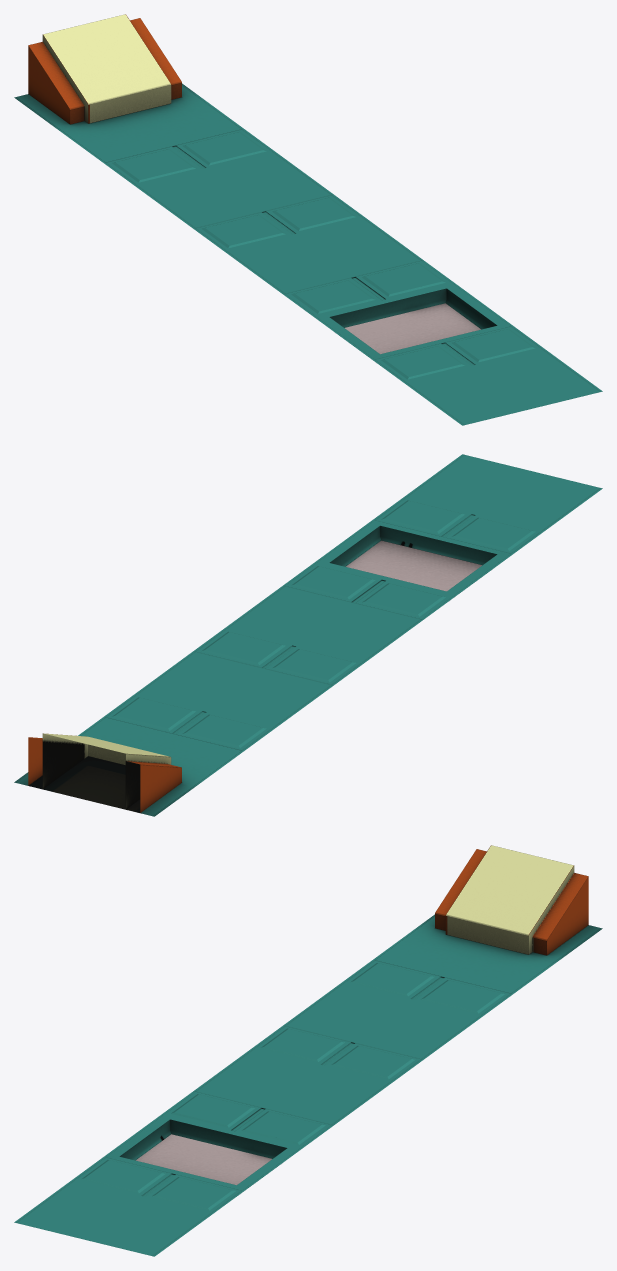
Rendered from sc_lvl1_floortile_20.FBX.
3 views of the same model, one above another, from view 1: azimuth 30°, elevation 25°; view 2: azimuth 150°, elevation 25°; view 3: azimuth 330°, elevation 25° (orthographic).
Visible parts, largest first — view 1: sc_lvl1_floortile_20; view 2: sc_lvl1_floortile_20; view 3: sc_lvl1_floortile_20.
Boxes of the visible parts, x1=… form: sc_lvl1_floortile_20: x1=14, y1=14, x2=602, y2=425; sc_lvl1_floortile_20: x1=14, y1=454, x2=602, y2=816; sc_lvl1_floortile_20: x1=14, y1=845, x2=602, y2=1256.
Size of the model in its own units: 18.1 by 8.56 by 100.
